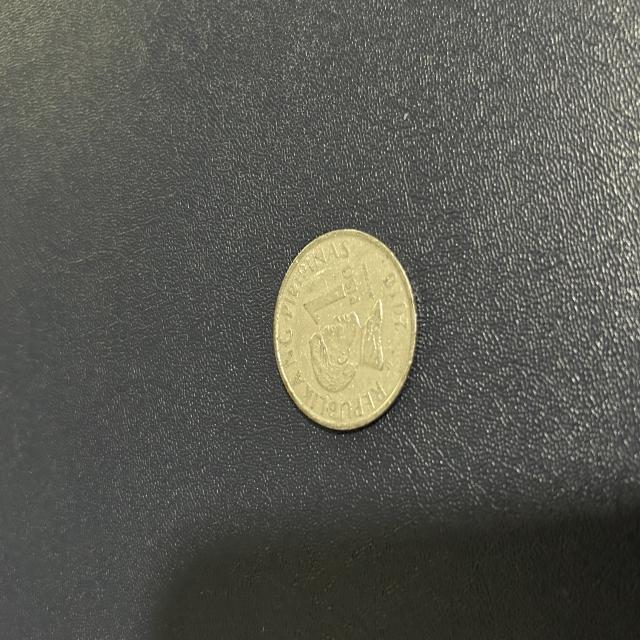1_Old_Front: (300, 258, 364, 320)
